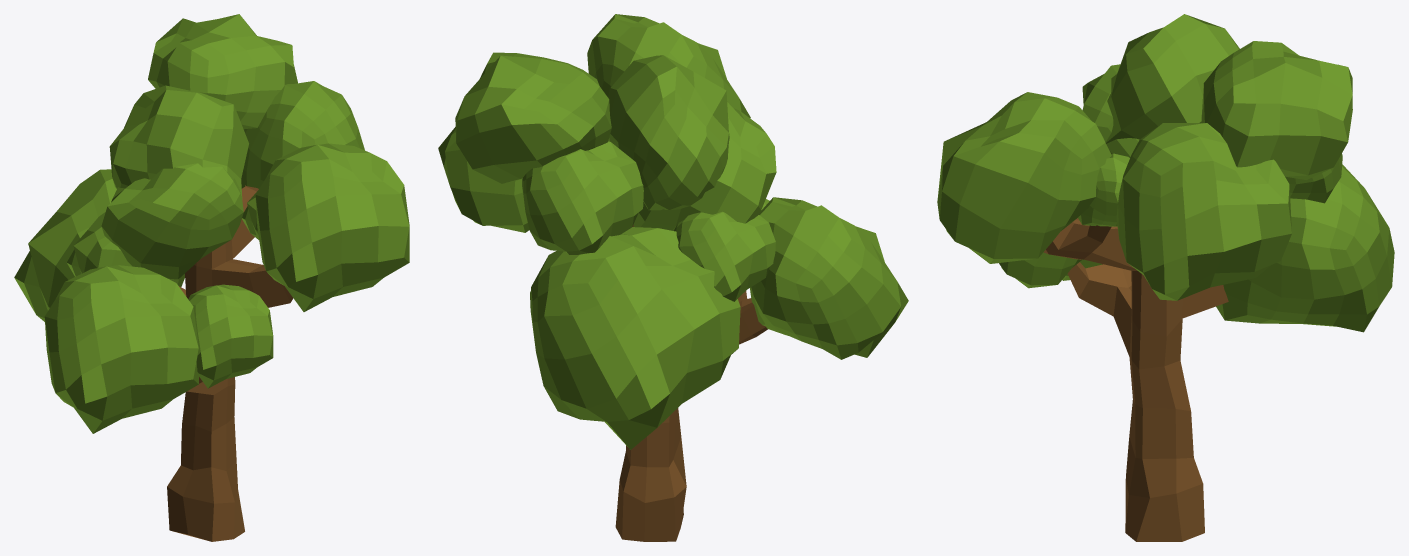
File: Tree_LOD_1.fbx
3 renders of one model, left to right at view 1: azimuth 30°, elevation 25°; view 2: azimuth 150°, elevation 25°; view 3: azimuth 270°, elevation 25°, orthographic. The views are drawn at different scales.
Parts seen in each view (by area): view 1: Cube.004; view 2: Cube.004; view 3: Cube.004.
Boxes of the visible parts, box(x1,y1,x2,y2) form: Cube.004: box(14, 14, 409, 541); Cube.004: box(438, 14, 908, 541); Cube.004: box(937, 14, 1394, 541).
Bounding box in the file's own units: 2057 × 2504 × 2026.
